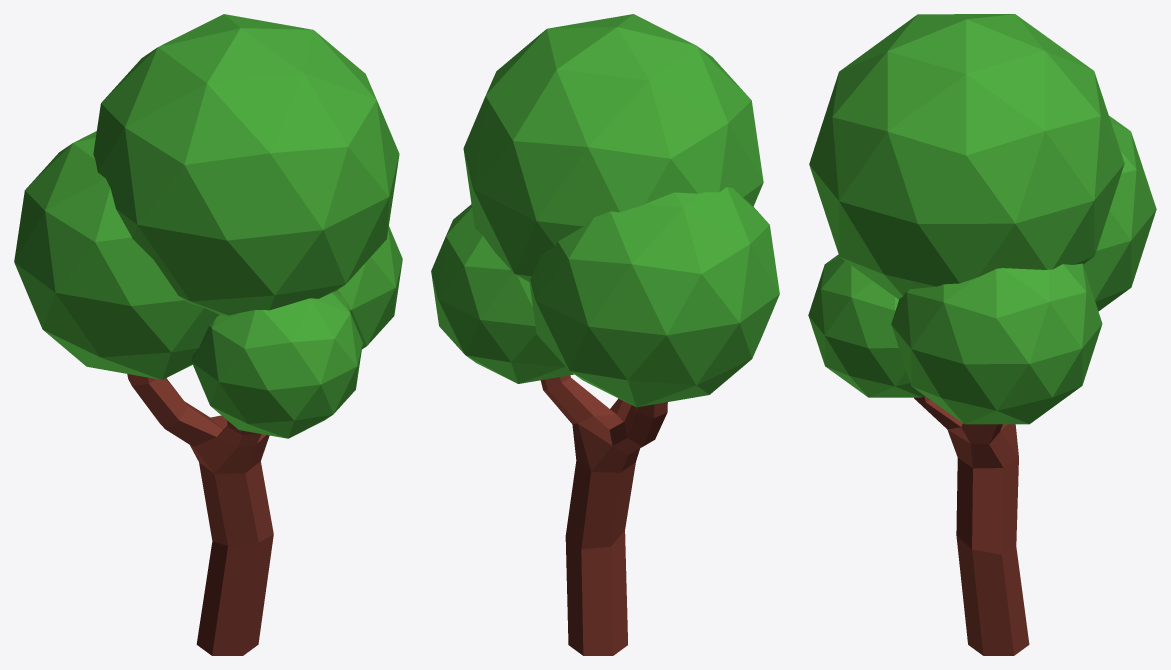
Rendered from Tree3.fbx.
The picture shows the model from 3 angles, left to right: view 1: azimuth 30°, elevation 25°; view 2: azimuth 150°, elevation 25°; view 3: azimuth 270°, elevation 25°; orthographic projection. The views are drawn at different scales.
Visible parts, largest first — view 1: Tree3; view 2: Tree3; view 3: Tree3.
Part boxes in pixels (x1,y1,x2,y2): Tree3: [14, 14, 402, 655]; Tree3: [431, 14, 779, 655]; Tree3: [808, 14, 1156, 655].
Bounding box in the file's own units: 1261 × 2245 × 1136.
